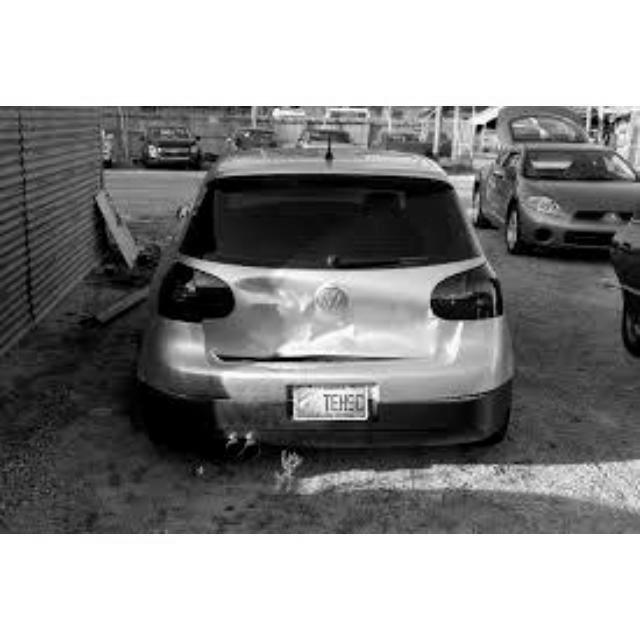boot-dent: (207, 278, 467, 359)
